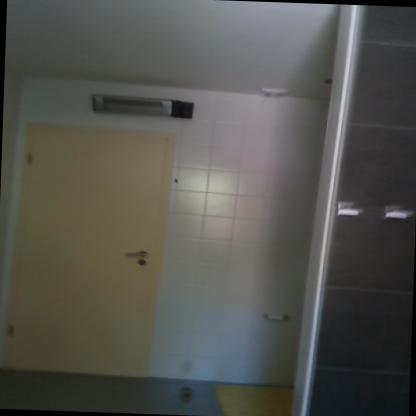closed: (2, 113, 179, 387)
